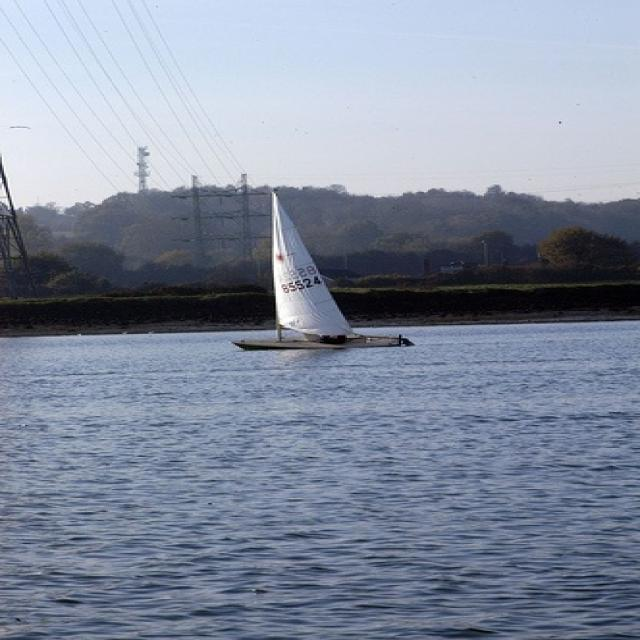boat: (222, 189, 418, 351)
